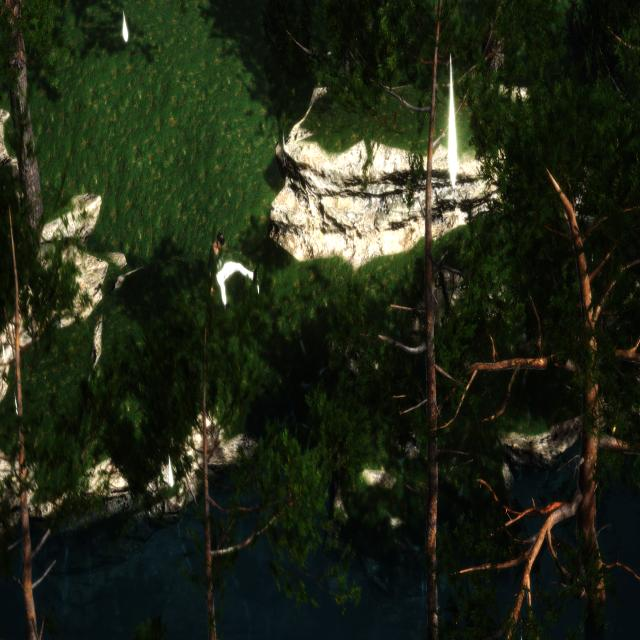Human: (202, 224, 262, 316)
